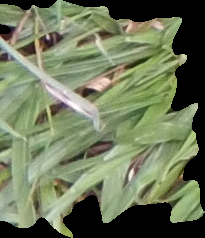grass: (1, 1, 204, 237)
